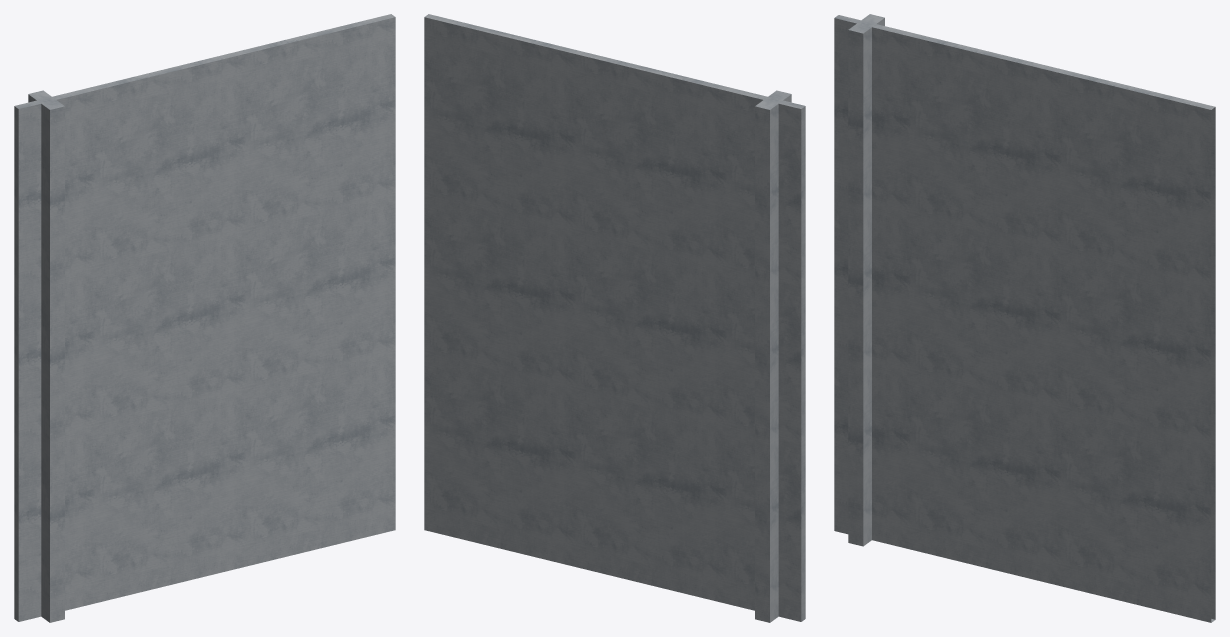
File: Cheyenne-Door-Type-0.obj
The picture shows the model from 3 angles, left to right: view 1: azimuth 30°, elevation 25°; view 2: azimuth 150°, elevation 25°; view 3: azimuth 330°, elevation 25°; orthographic projection.
Visible parts, largest first — view 1: Cheyenne-Door-Type-0; view 2: Cheyenne-Door-Type-0; view 3: Cheyenne-Door-Type-0.
Boxes of the visible parts, x1,y1,x2,y2 form: Cheyenne-Door-Type-0: [14, 14, 395, 622]; Cheyenne-Door-Type-0: [424, 14, 805, 622]; Cheyenne-Door-Type-0: [834, 14, 1215, 622].
Bounding box in the file's own units: 2.5 × 3.25 × 0.25.
